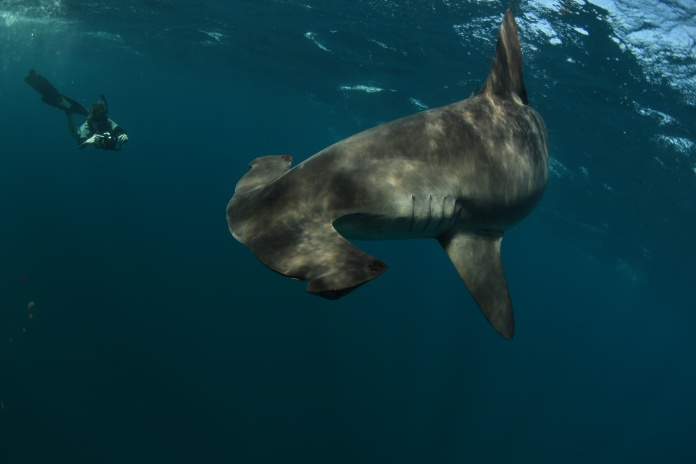Hammer: (220, 1, 617, 355)
